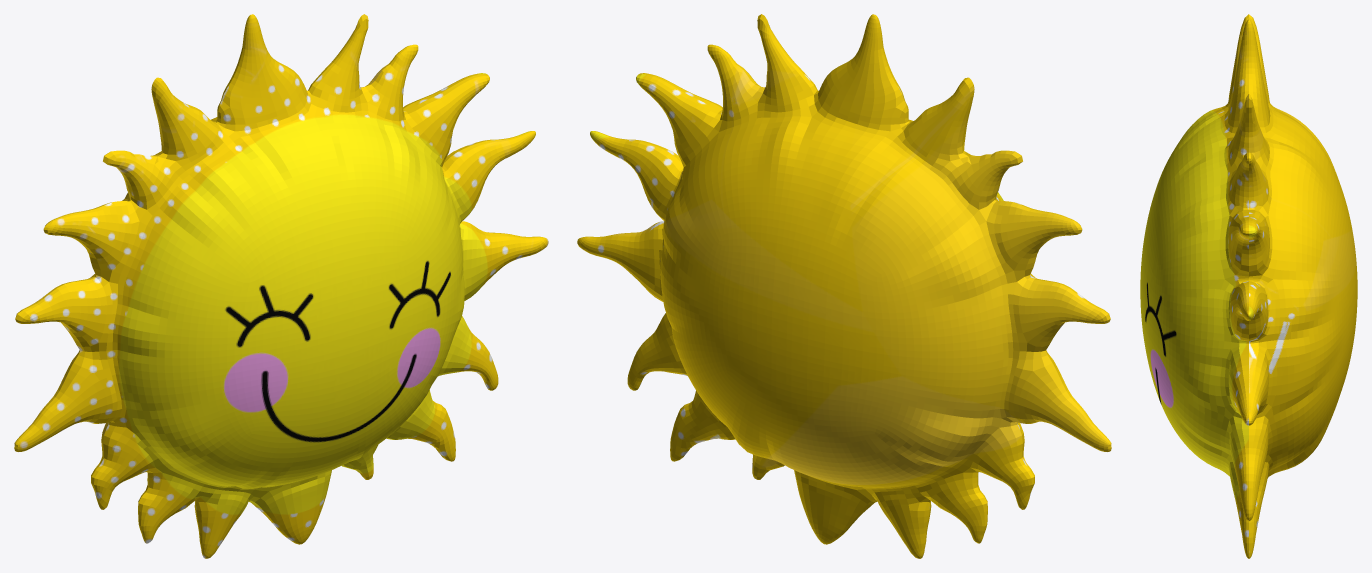
The model's file is Sun.gltf.
3 views of the same model, side by side, from view 1: azimuth 30°, elevation 25°; view 2: azimuth 150°, elevation 25°; view 3: azimuth 270°, elevation 25° (orthographic). The views are drawn at different scales.
Parts seen in each view (by area): view 1: Smiling_Sun_Balloon_26in_MDL_V1; view 2: Smiling_Sun_Balloon_26in_MDL_V1; view 3: Smiling_Sun_Balloon_26in_MDL_V1.
Boxes of the visible parts, box(x1,y1,x2,y2) form: Smiling_Sun_Balloon_26in_MDL_V1: box(14, 14, 548, 558); Smiling_Sun_Balloon_26in_MDL_V1: box(577, 14, 1111, 558); Smiling_Sun_Balloon_26in_MDL_V1: box(1140, 14, 1357, 558).
Bounding box in the file's own units: 68.08 × 65.9 × 26.41.
1 material, 1 textured.
